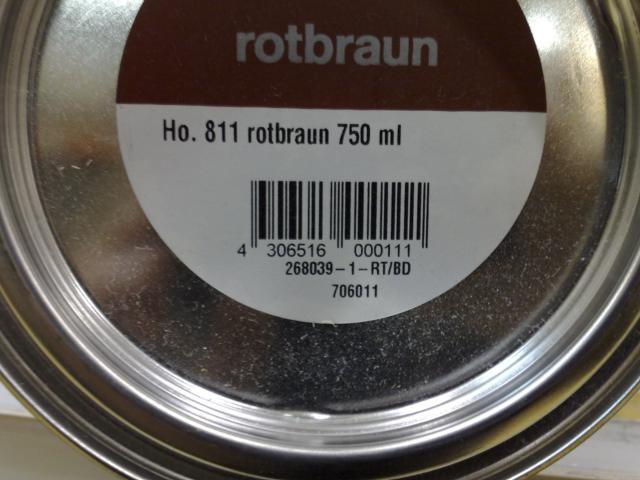Barcode: (228, 171, 447, 260)
